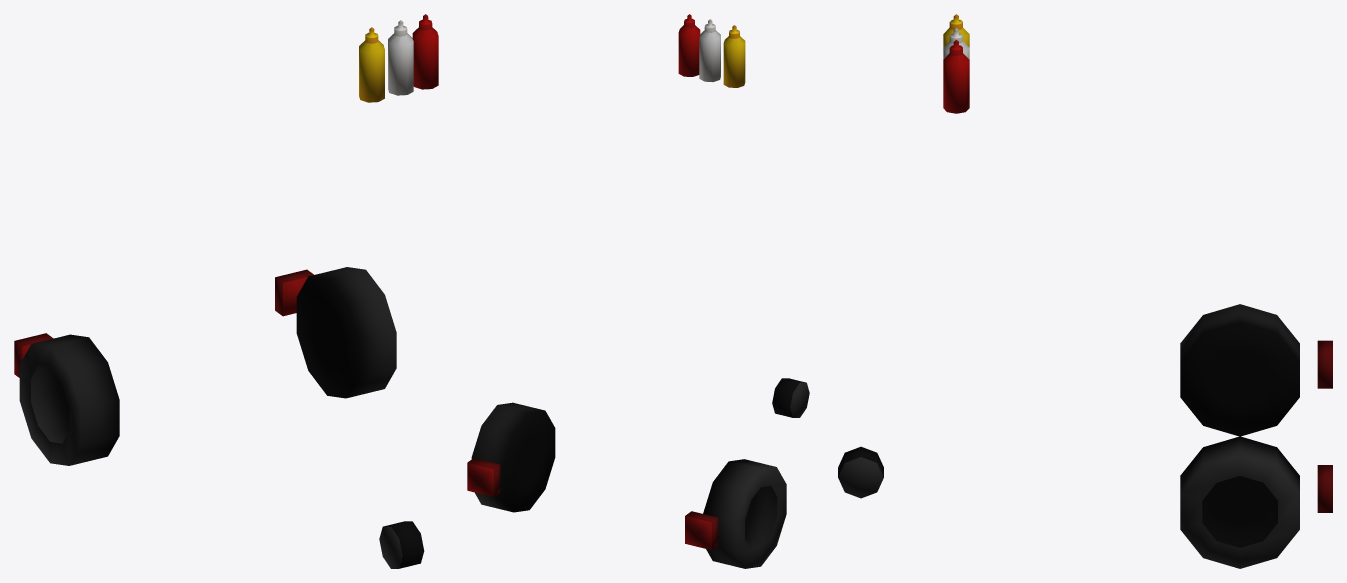
3 renders of one model, left to right at view 1: azimuth 30°, elevation 25°; view 2: azimuth 150°, elevation 25°; view 3: azimuth 270°, elevation 25°, orthographic. The views are drawn at different scales.
Parts seen in each view (by area): view 1: base.028; view 2: base.028; view 3: base.028.
Part boxes in pixels (x1,y1,x2,y2): base.028: (14, 14, 438, 568); base.028: (467, 14, 809, 568); base.028: (838, 14, 1332, 568).
Bounding box in the file's own units: 0.331 × 0.5 × 0.4589.
